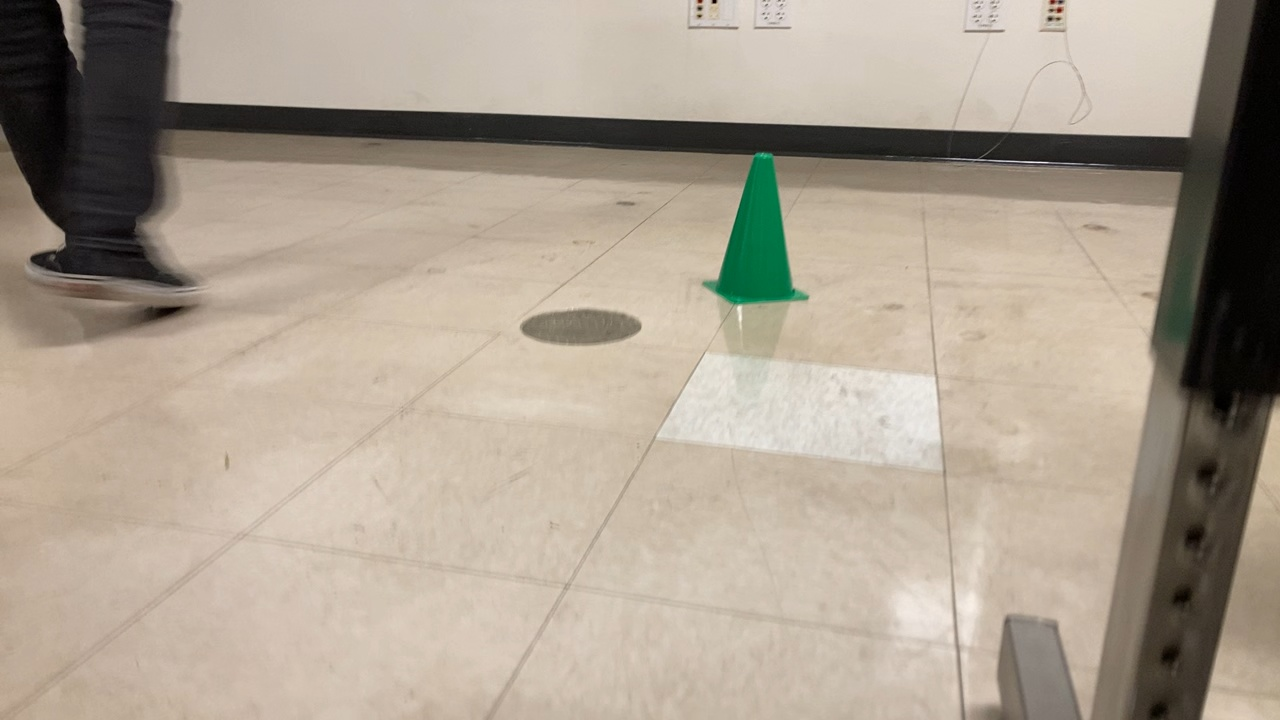green_cone: (695, 148, 814, 310)
